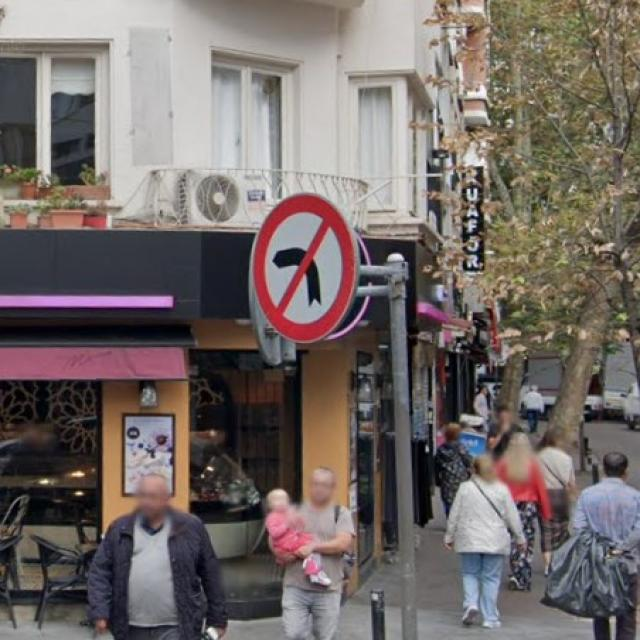soladonulmez: (255, 193, 350, 342)
